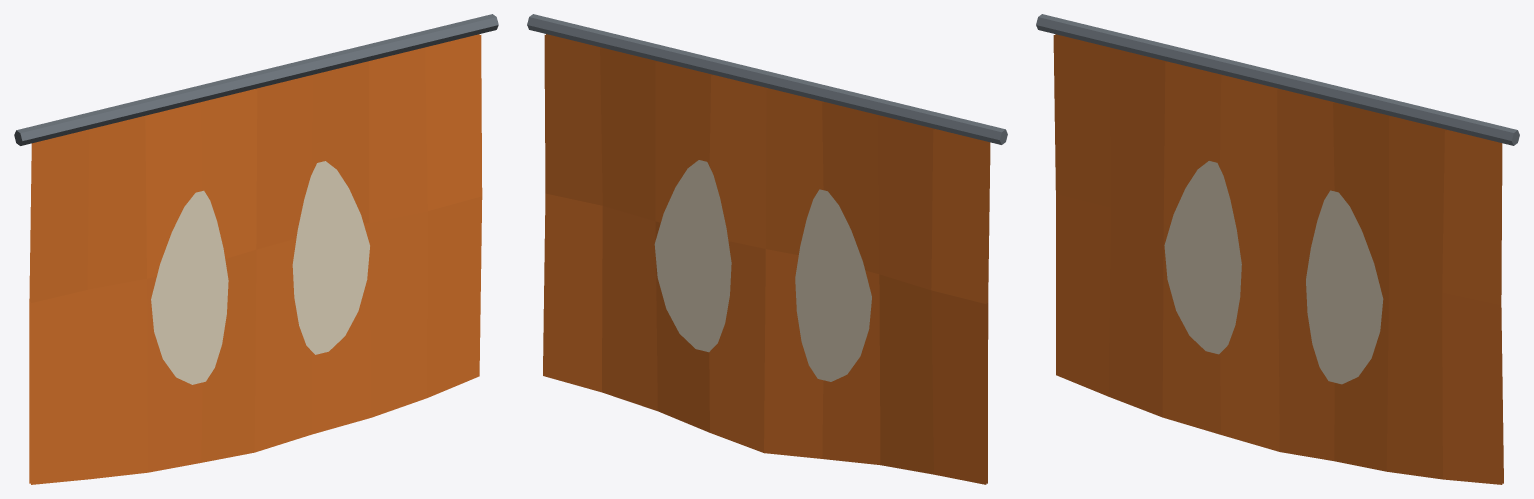
File: site-banner.glb
3 renders of one model, left to right at view 1: azimuth 30°, elevation 25°; view 2: azimuth 150°, elevation 25°; view 3: azimuth 330°, elevation 25°, orthographic.
Parts seen in each view (by area): view 1: site-banner; view 2: site-banner; view 3: site-banner.
Part boxes in pixels (<box>): site-banner: <box>14,14,498,484</box>; site-banner: <box>527,14,1007,484</box>; site-banner: <box>1036,14,1519,484</box>.
Bounding box in the file's own units: 4 × 3.05 × 0.12.
